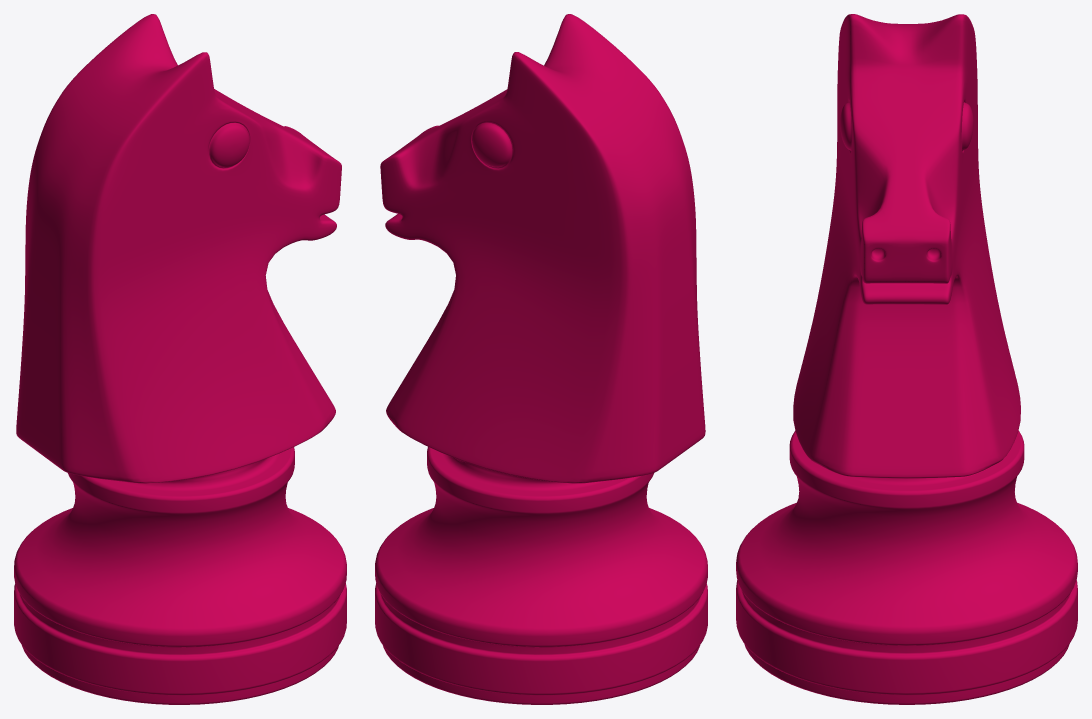
The model's file is red_horse.glb.
The picture shows the model from 3 angles, left to right: view 1: azimuth 30°, elevation 25°; view 2: azimuth 150°, elevation 25°; view 3: azimuth 270°, elevation 25°; orthographic projection. The views are drawn at different scales.
Parts seen in each view (by area): view 1: Chess_piece_Horse_1_Black_HP; view 2: Chess_piece_Horse_1_Black_HP; view 3: Chess_piece_Horse_1_Black_HP.
Part boxes in pixels (box(x1,y1,x2,y2)): Chess_piece_Horse_1_Black_HP: box(14, 14, 346, 704); Chess_piece_Horse_1_Black_HP: box(375, 14, 707, 704); Chess_piece_Horse_1_Black_HP: box(736, 14, 1077, 704).
Bounding box in the file's own units: 0.0519 × 0.1041 × 0.0519.
